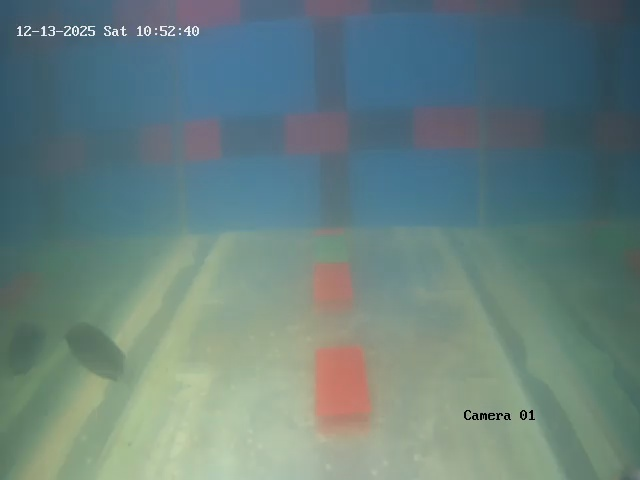fish: (54, 318, 132, 385)
